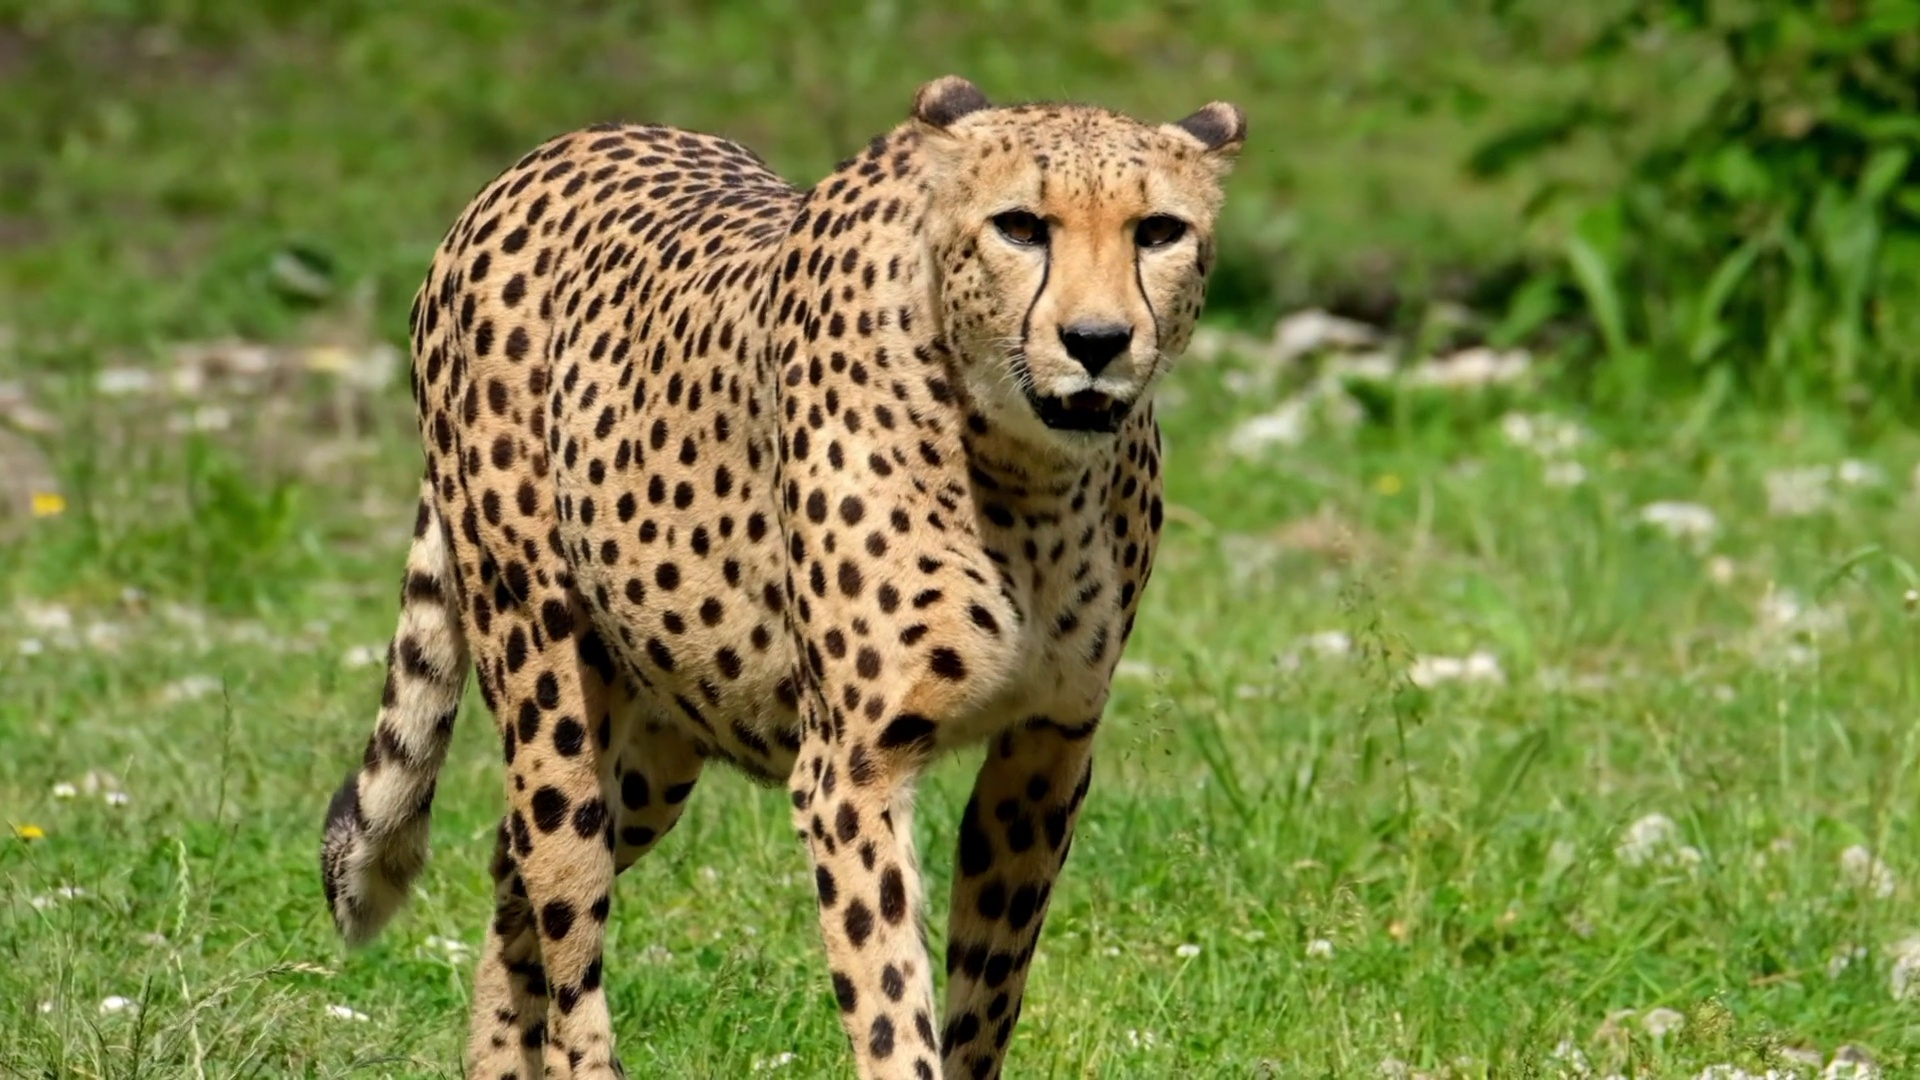Cheetah: (314, 65, 1253, 1080)
